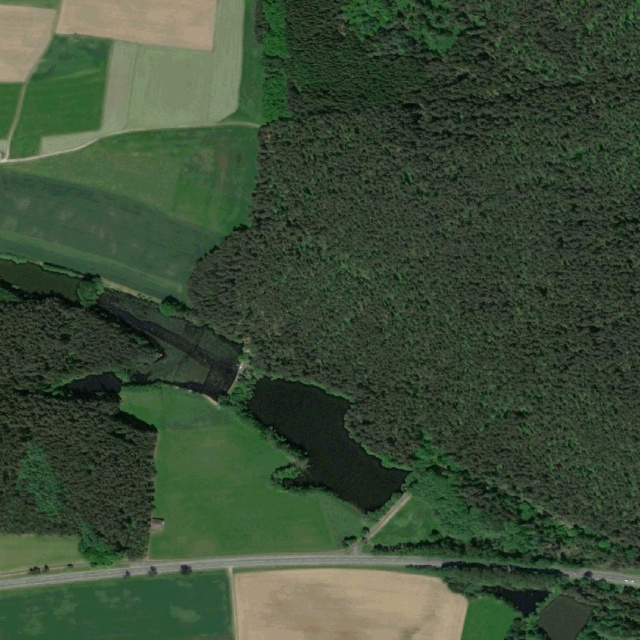vegetation: (156, 0, 640, 572), (0, 274, 163, 565), (404, 563, 640, 640), (506, 617, 554, 640)
